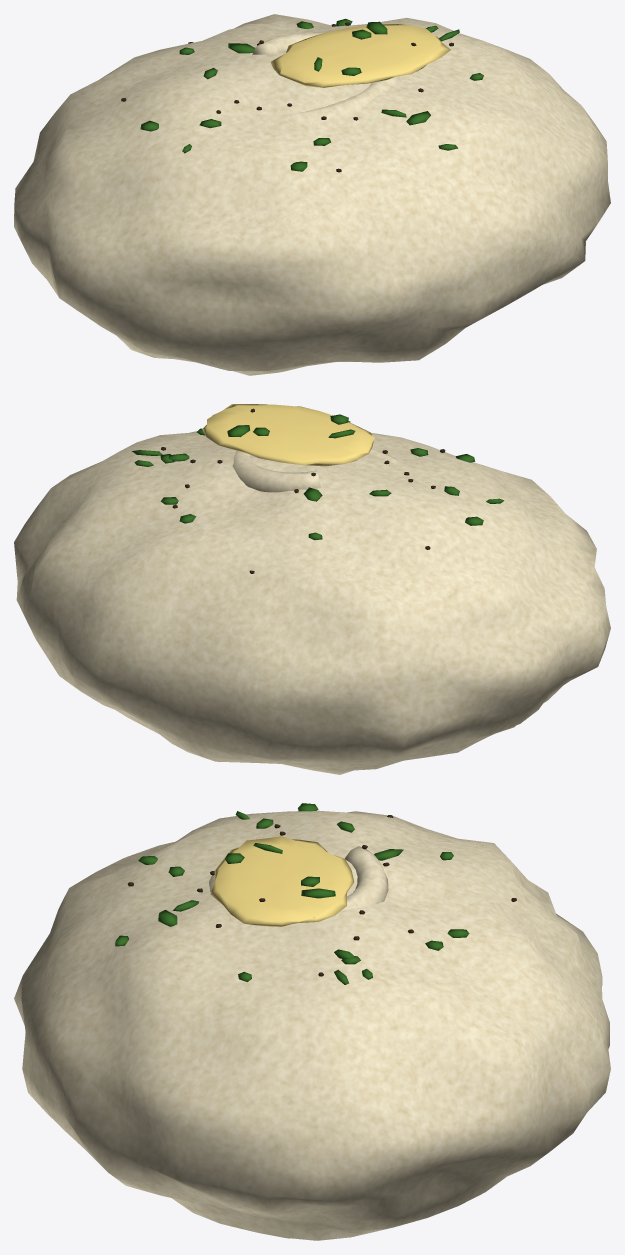
File: mashed_potatoes.glb
3 renders of one model, top to bottom at view 1: azimuth 30°, elevation 25°; view 2: azimuth 150°, elevation 25°; view 3: azimuth 270°, elevation 25°, orthographic. The views are drawn at different scales.
Parts seen in each view (by area): view 1: mashed_potatoes; view 2: mashed_potatoes; view 3: mashed_potatoes.
Boxes of the visible parts, x1,y1,x2,y2 form: mashed_potatoes: (14,14,610,375); mashed_potatoes: (14,404,610,774); mashed_potatoes: (14,803,610,1240).
Bounding box in the file's own units: 0.0609 × 0.0301 × 0.0507.
1 material, 1 textured.
